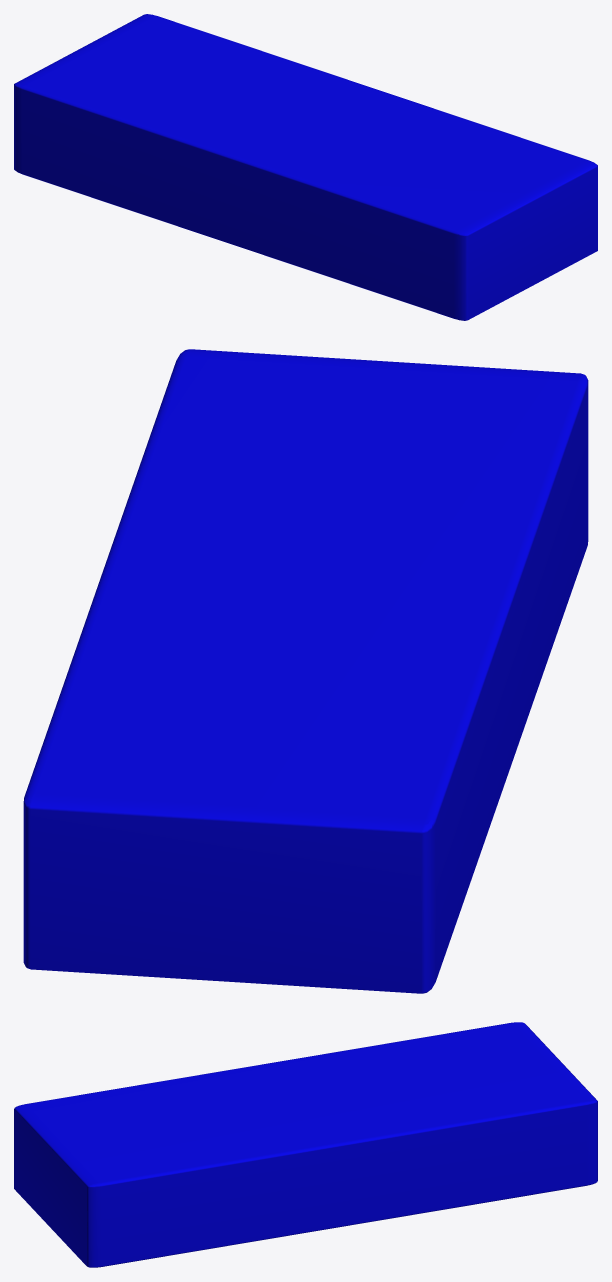
File: RectBlockFBX.fbx
3 views of the same model, one above another, from view 1: azimuth 30°, elevation 25°; view 2: azimuth 150°, elevation 25°; view 3: azimuth 270°, elevation 25° (orthographic). The views are drawn at different scales.
Visible parts, largest first — view 1: pCube4; view 2: pCube4; view 3: pCube4.
Boxes of the visible parts, x1=… form: pCube4: x1=14, y1=14, x2=597, y2=320; pCube4: x1=23, y1=349, x2=588, y2=993; pCube4: x1=14, y1=1022, x2=597, y2=1267.
Bounding box in the file's own units: 1.59 × 0.3781 × 2.39.
